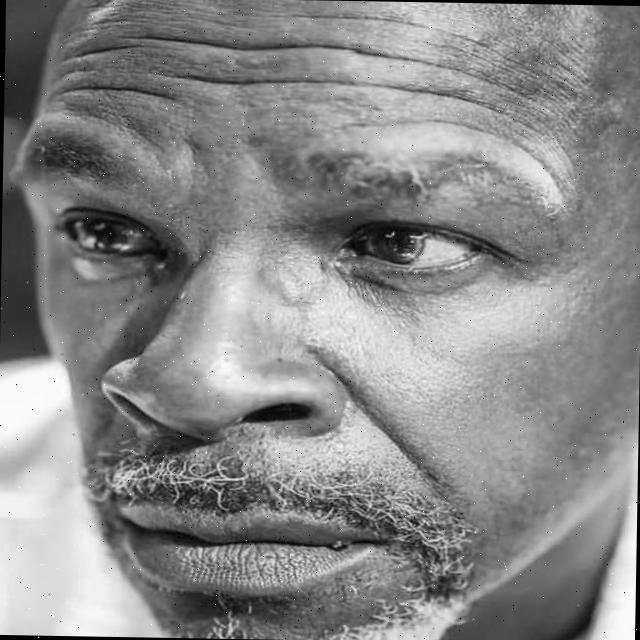Sadness: (12, 0, 594, 640)
